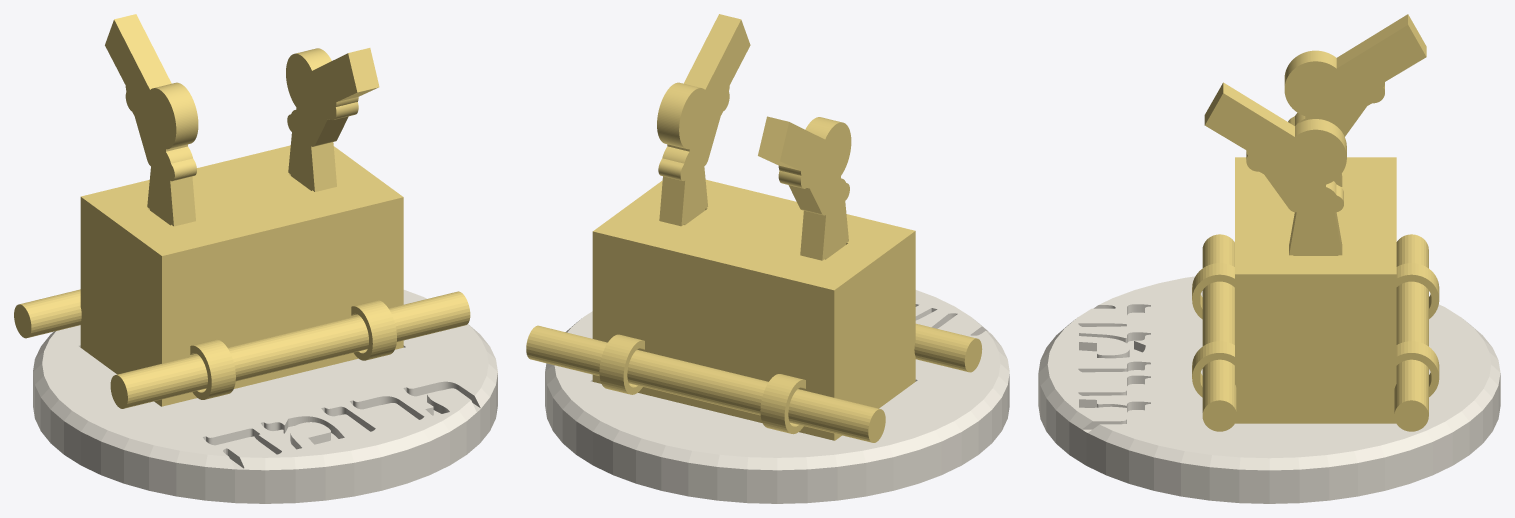
The model's file is terumah.glb.
The picture shows the model from 3 angles, left to right: view 1: azimuth 30°, elevation 25°; view 2: azimuth 150°, elevation 25°; view 3: azimuth 270°, elevation 25°; orthographic projection.
Parts seen in each view (by area): view 1: stage, ark, kaporet, pole-1, keruv-1, keruv-2, pole-2; view 2: stage, ark, kaporet, pole-2, keruv-2, keruv-1, pole-1; view 3: stage, ark, kaporet, keruv-2, keruv-1, pole-2, pole-1.
Boxes of the visible parts, x1,y1,x2,y2 form: stage: (33,290,497,503); ark: (80,216,403,406); kaporet: (80,145,403,274); pole-1: (110,291,470,408); keruv-1: (105,14,198,226); keruv-2: (286,48,379,191); pole-2: (14,289,81,338); stage: (545,290,1009,503); ark: (592,250,915,440); kaporet: (592,179,915,308); pole-2: (526,325,885,442); keruv-2: (657,14,750,226); keruv-1: (758,116,851,260); pole-1: (914,323,982,372); stage: (1038,276,1500,503); ark: (1192,263,1439,423); kaporet: (1235,157,1396,293); keruv-2: (1204,82,1346,255); keruv-1: (1284,14,1426,186); pole-2: (1394,234,1428,431); pole-1: (1202,234,1236,431).
Size of the model in its own units: 40 by 33.7 by 40.
